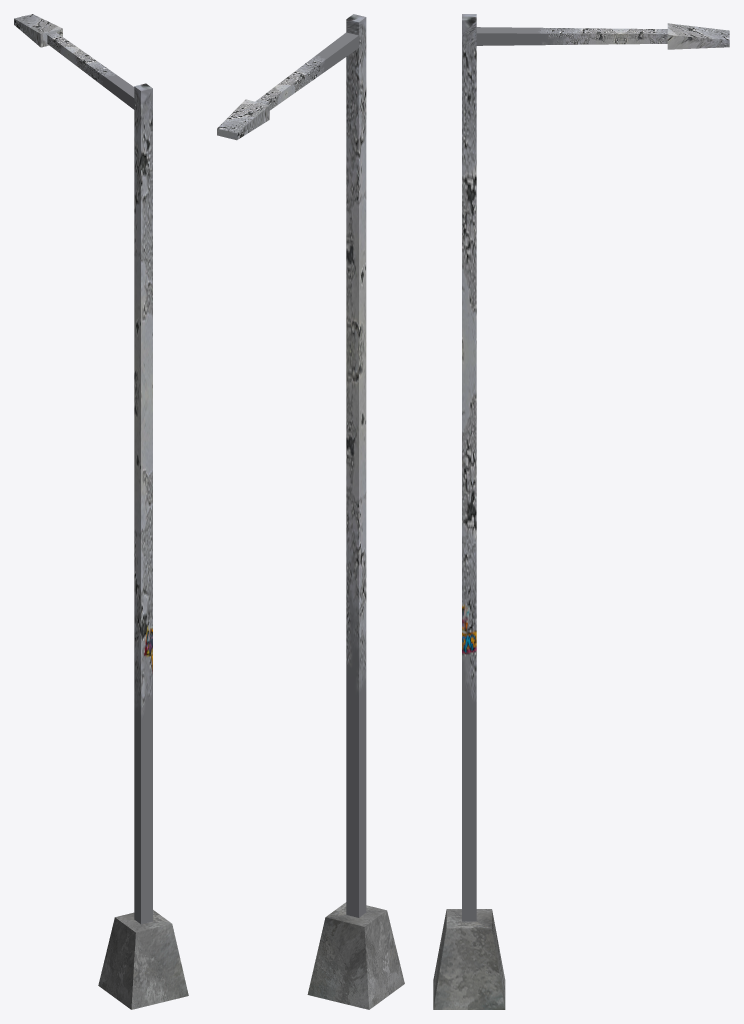
The model's file is Lamppostfbx.fbx.
The picture shows the model from 3 angles, left to right: view 1: azimuth 30°, elevation 25°; view 2: azimuth 150°, elevation 25°; view 3: azimuth 270°, elevation 25°; orthographic projection. The views are drawn at different scales.
Visible parts, largest first — view 1: Cube.103; view 2: Cube.103; view 3: Cube.103.
Part boxes in pixels (bbox=[...]): Cube.103: bbox=[14, 14, 188, 1009]; Cube.103: bbox=[217, 14, 404, 1009]; Cube.103: bbox=[433, 14, 729, 1009].
Bounding box in the file's own units: 51.87 × 780 × 214.
